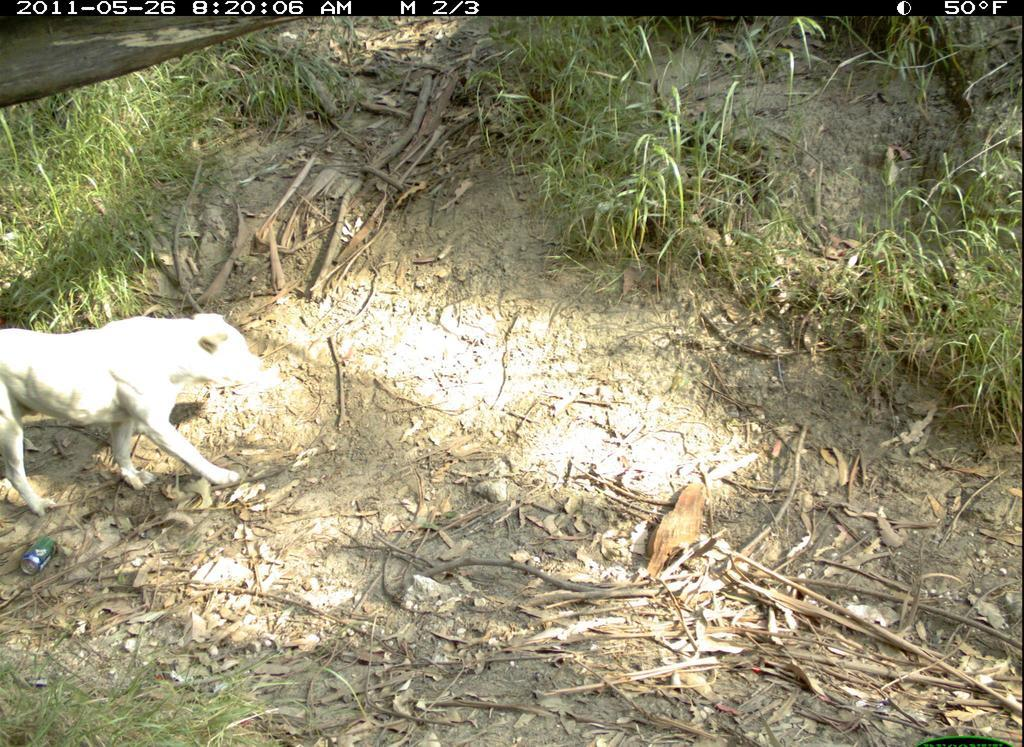dog: (3, 306, 283, 524)
